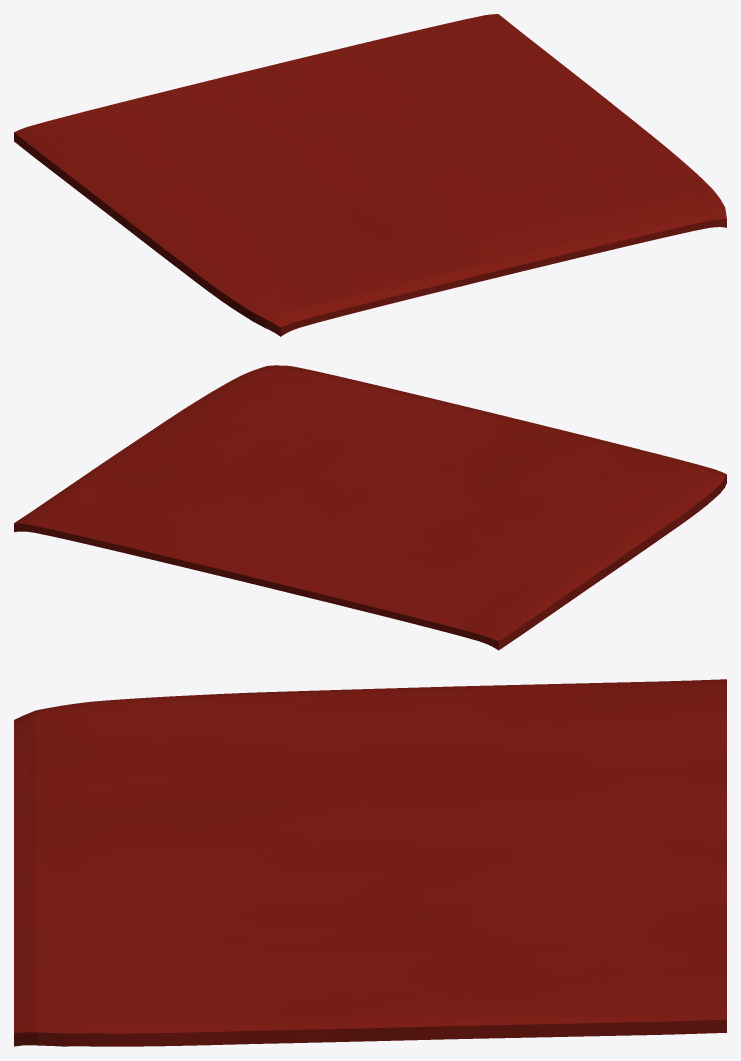
The model's file is capo_picape.glb.
3 views of the same model, one above another, from view 1: azimuth 30°, elevation 25°; view 2: azimuth 150°, elevation 25°; view 3: azimuth 270°, elevation 25° (orthographic). The views are drawn at different scales.
Visible parts, largest first — view 1: capo_picape_pintura; view 2: capo_picape_pintura; view 3: capo_picape_pintura.
Part boxes in pixels (<box>): capo_picape_pintura: <box>14,14,726,336</box>; capo_picape_pintura: <box>14,365,726,650</box>; capo_picape_pintura: <box>14,679,726,1046</box>.
Size of the model in its own units: 1.51 by 0.0958 by 1.34.
Materials: 1 (1 with a texture image).
